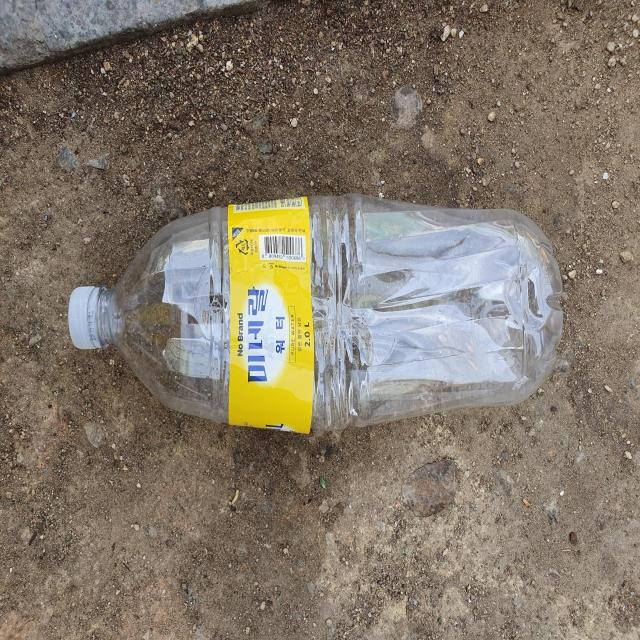plastic: (68, 194, 564, 434)
